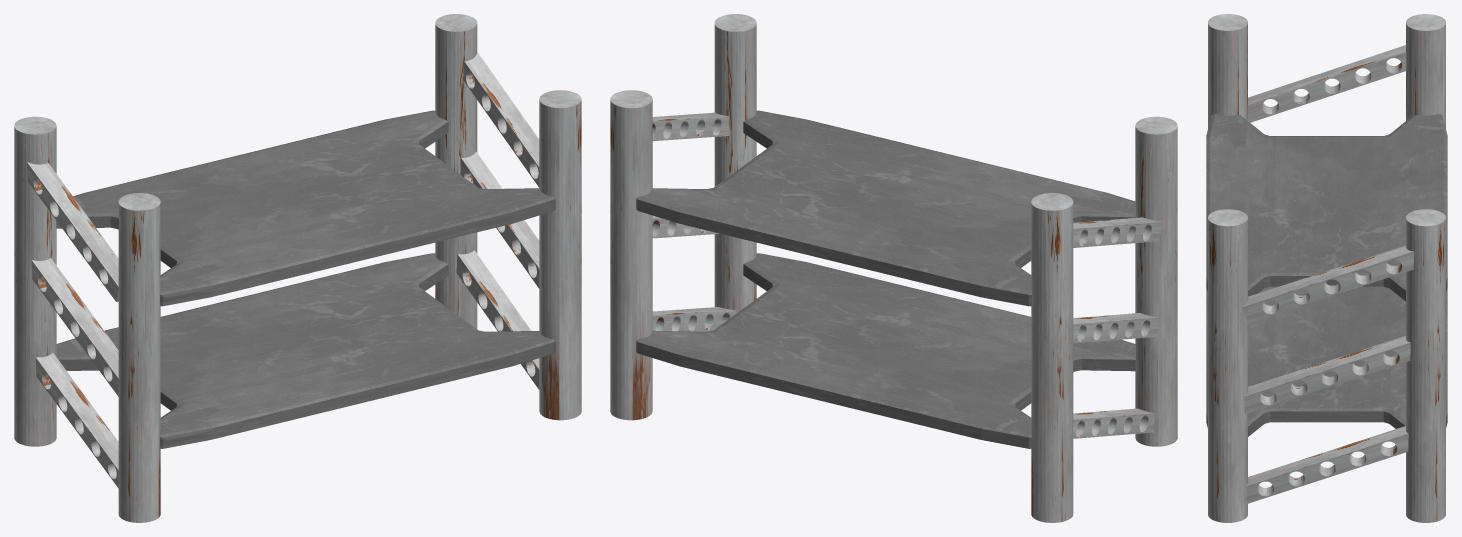
File: fixedshelf_.glb
3 renders of one model, left to right at view 1: azimuth 30°, elevation 25°; view 2: azimuth 150°, elevation 25°; view 3: azimuth 270°, elevation 25°, orthographic. The views are drawn at different scales.
Parts seen in each view (by area): view 1: Poles, Shelf2, Shelf1, Beams; view 2: Poles, Shelf2, Shelf1, Beams; view 3: Poles, Shelf2, Beams, Shelf1.
Boxes of the visible parts, x1=… form: Poles: x1=14, y1=14, x2=581, y2=522; Shelf2: x1=56, y1=110, x2=555, y2=306; Shelf1: x1=56, y1=253, x2=555, y2=448; Beams: x1=26, y1=52, x2=539, y2=488; Poles: x1=610, y1=14, x2=1177, y2=522; Shelf2: x1=636, y1=110, x2=1135, y2=306; Shelf1: x1=636, y1=253, x2=1135, y2=448; Beams: x1=652, y1=112, x2=1162, y2=438; Poles: x1=1208, y1=14, x2=1445, y2=522; Shelf2: x1=1206, y1=114, x2=1447, y2=301; Beams: x1=1241, y1=45, x2=1414, y2=503; Shelf1: x1=1206, y1=286, x2=1447, y2=436.
Size of the model in its own units: 13.62 by 8.88 by 6.55.
Materials: 2 (2 with a texture image).
